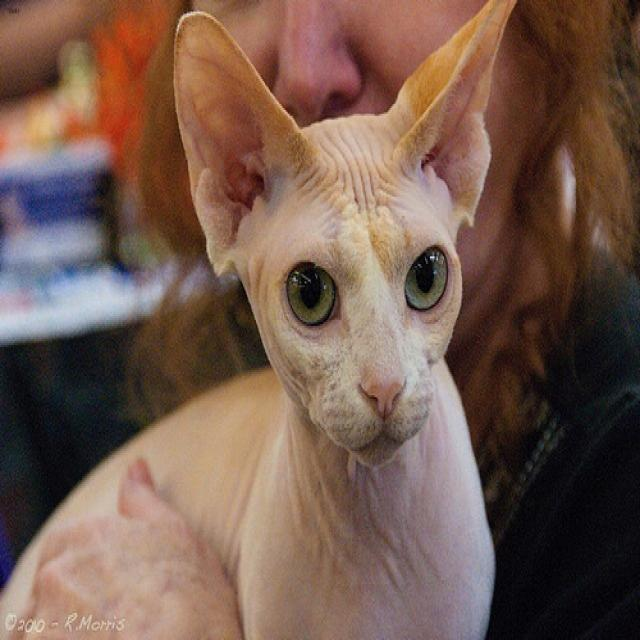Sphynx: (171, 0, 514, 468)
